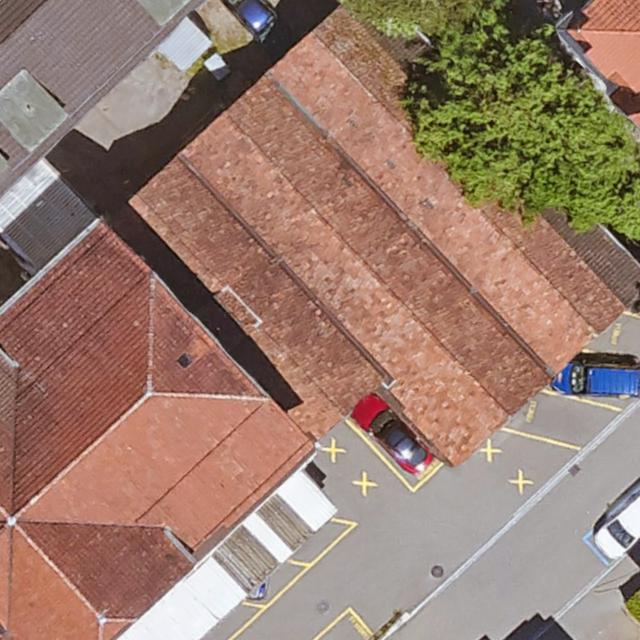tree: (417, 30, 628, 202), (332, 0, 513, 35)
